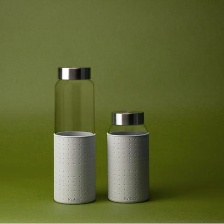bottle: (50, 63, 101, 206), (105, 110, 156, 209)
